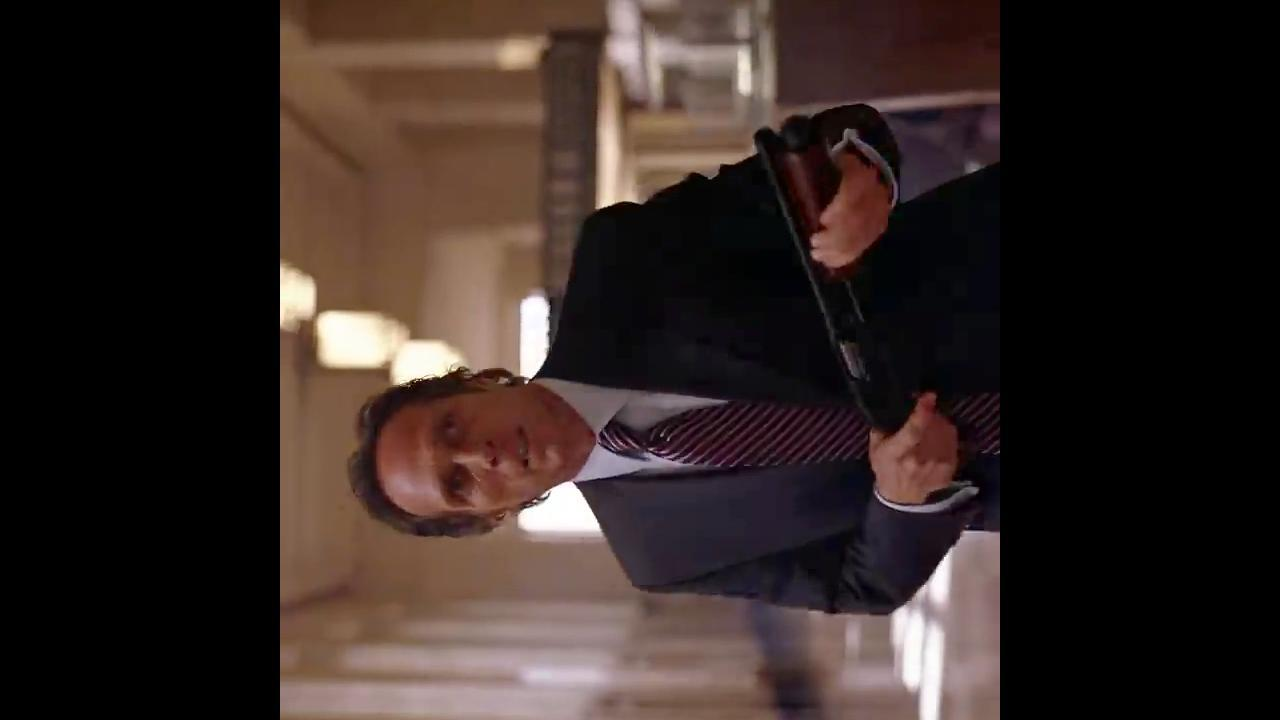gun: (754, 118, 954, 488)
